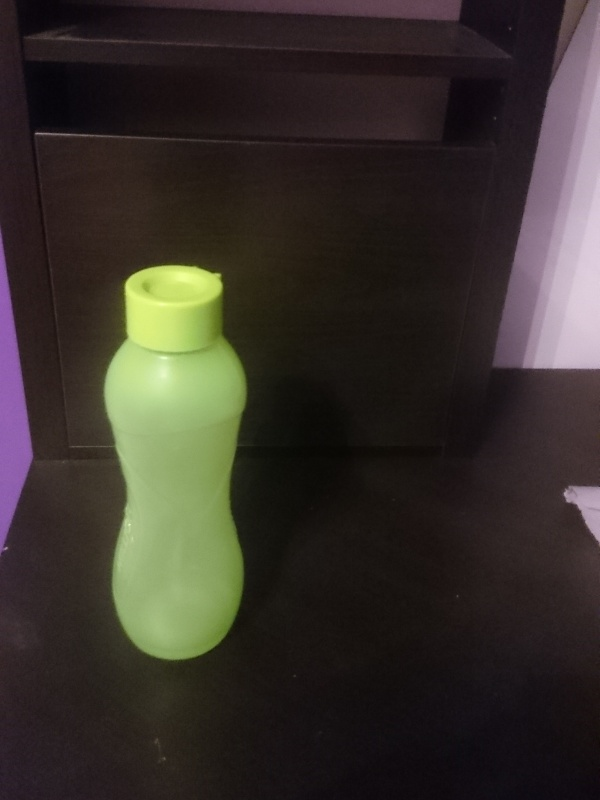my bottle: (104, 267, 246, 659)
